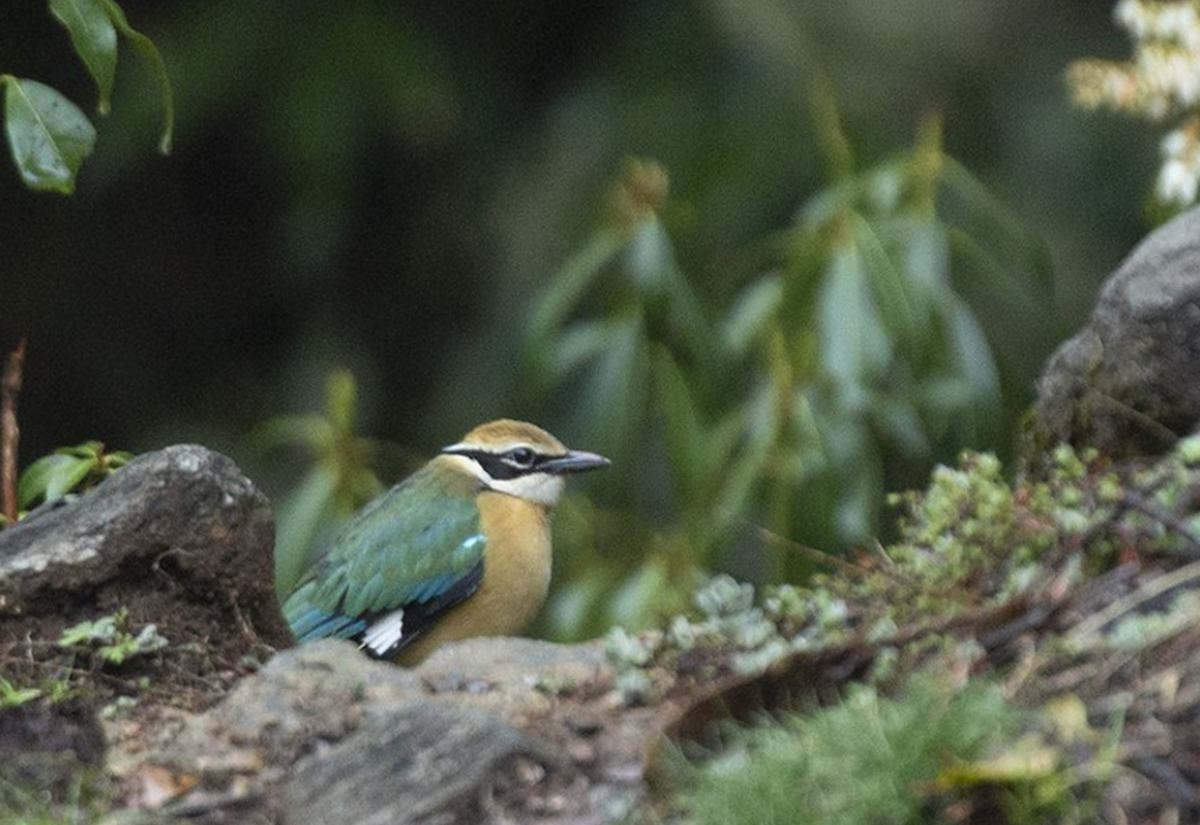pitta: (306, 390, 606, 667)
